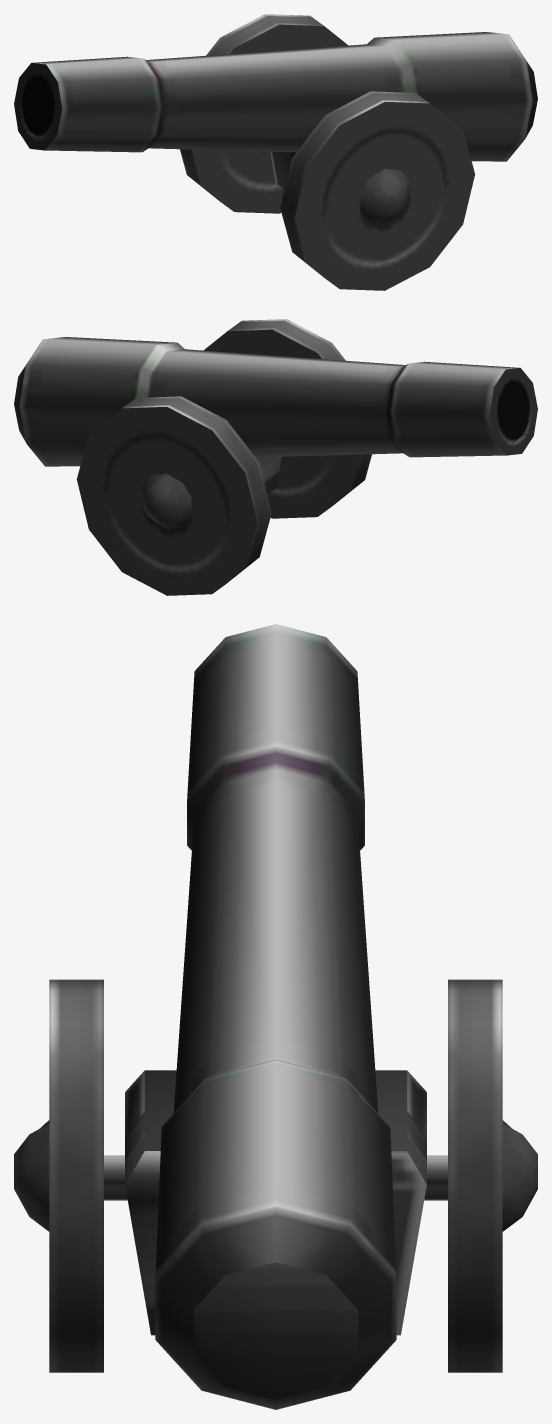
Rendered from int_pir_cannon.dae.
3 renders of one model, top to bottom at view 1: azimuth 30°, elevation 25°; view 2: azimuth 150°, elevation 25°; view 3: azimuth 270°, elevation 25°, orthographic. The views are drawn at different scales.
Parts seen in each view (by area): view 1: int_pir_cannon; view 2: int_pir_cannon; view 3: int_pir_cannon.
Boxes of the visible parts, x1=… form: int_pir_cannon: x1=14, y1=14, x2=537, y2=290; int_pir_cannon: x1=14, y1=319, x2=537, y2=595; int_pir_cannon: x1=14, y1=624, x2=537, y2=1409.
Bounding box in the file's own units: 59.58 × 28.99 × 29.06.
1 material, 1 textured.
